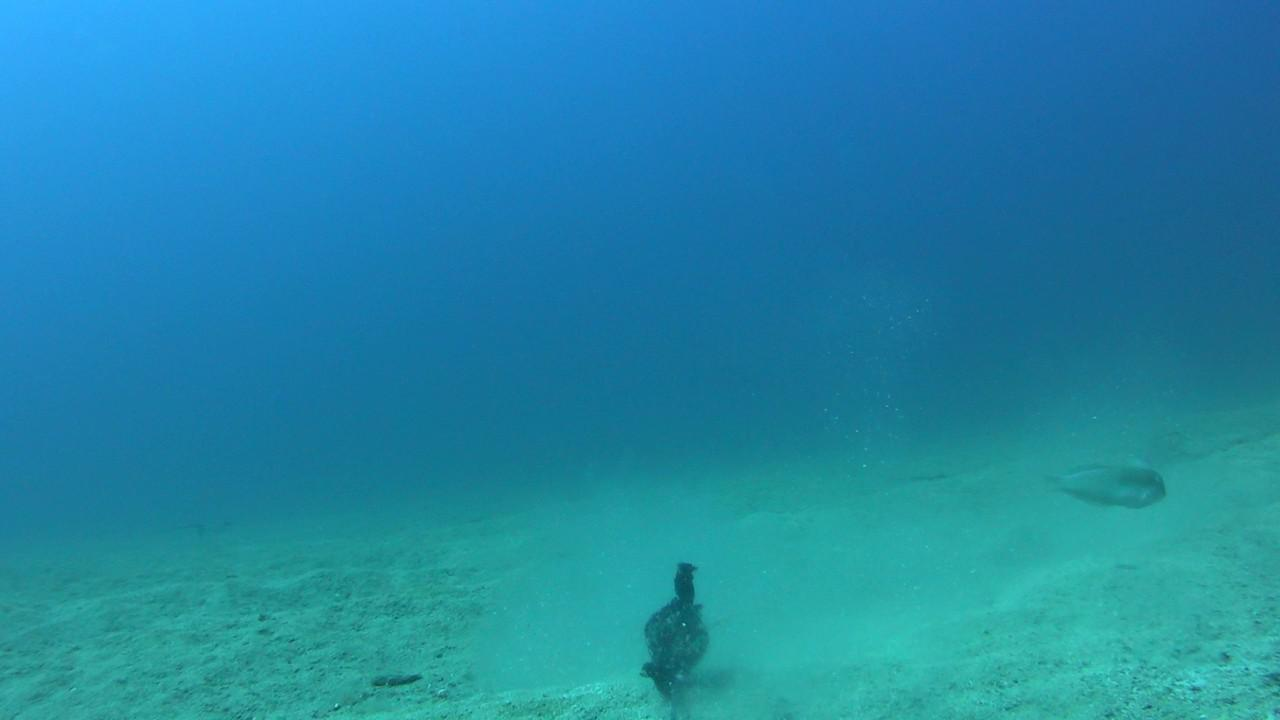myliobatis: (170, 516, 241, 543)
raor: (1041, 461, 1174, 509)
